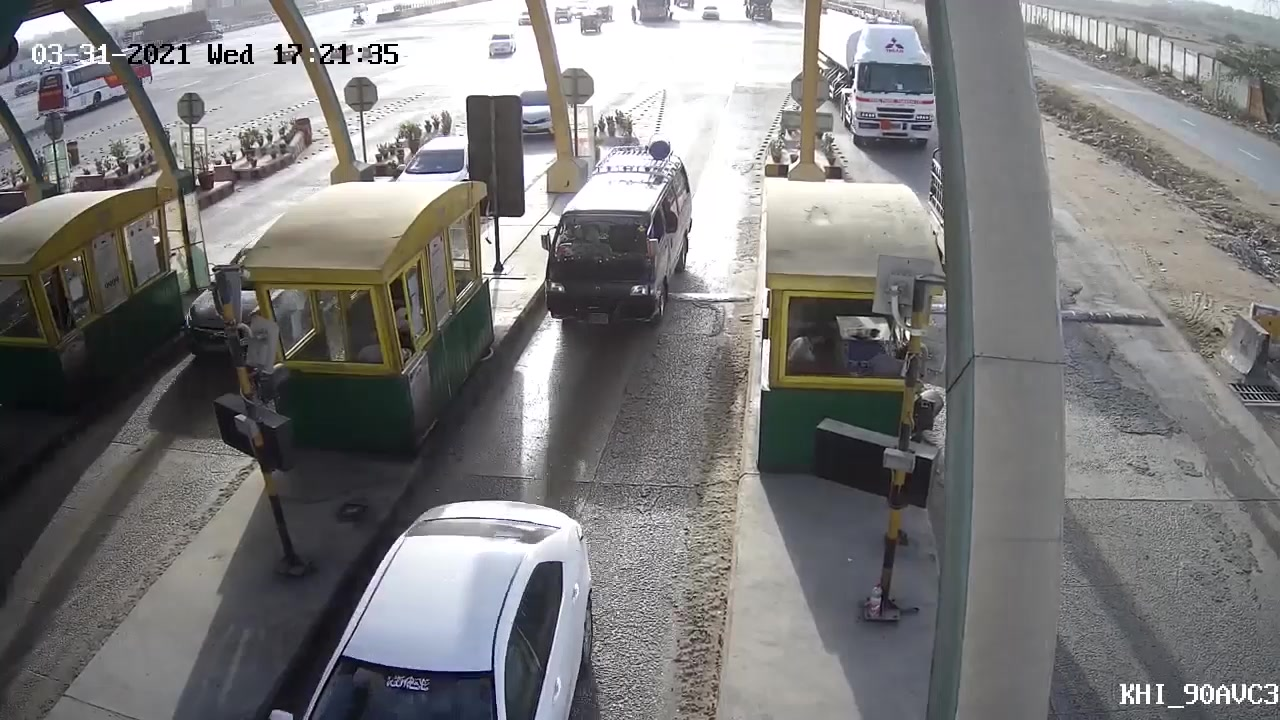F3: (537, 134, 699, 349)
